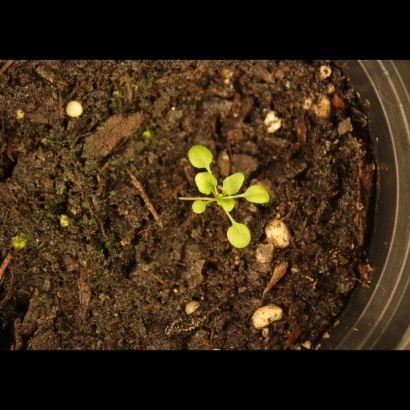leaf: (221, 221, 256, 253), (242, 182, 272, 209), (186, 144, 215, 170), (191, 172, 220, 197), (221, 171, 247, 197), (185, 197, 208, 220), (216, 196, 239, 219)
